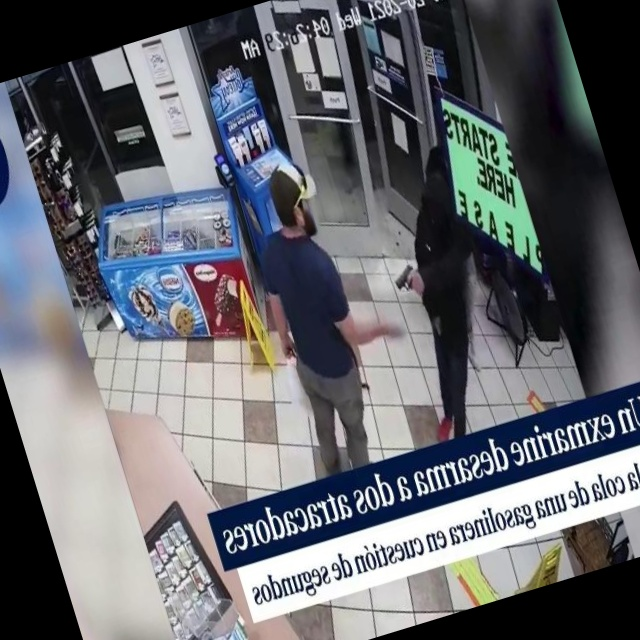gun: (384, 248, 439, 315)
